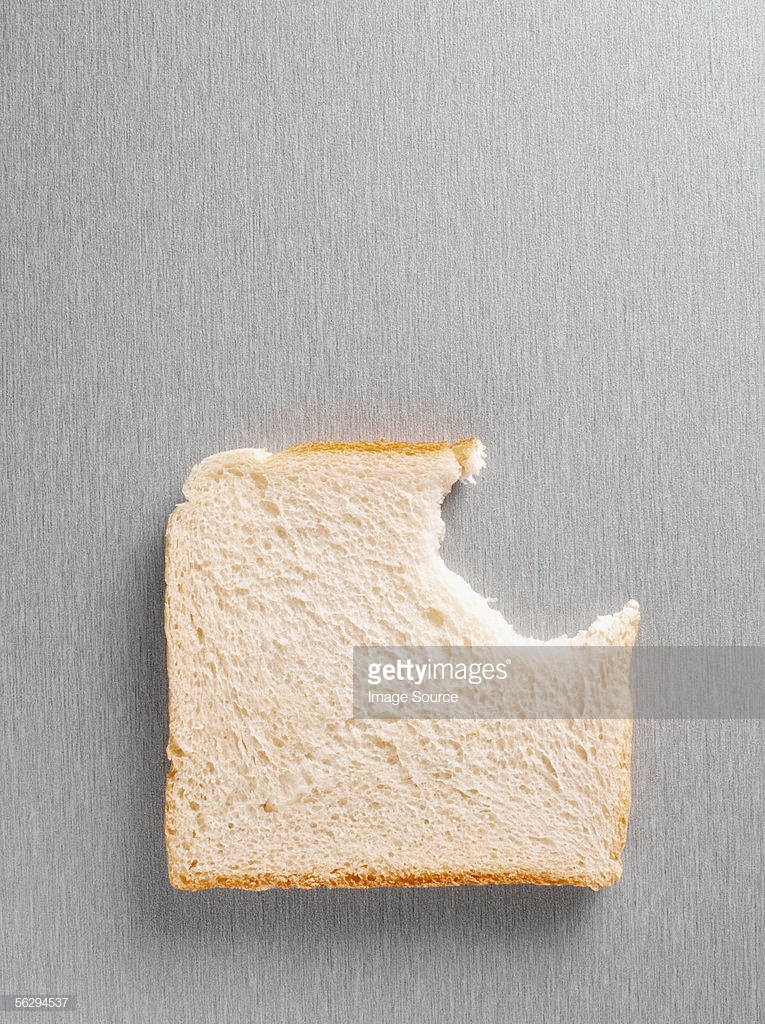slice of bread: (155, 477, 387, 902)
